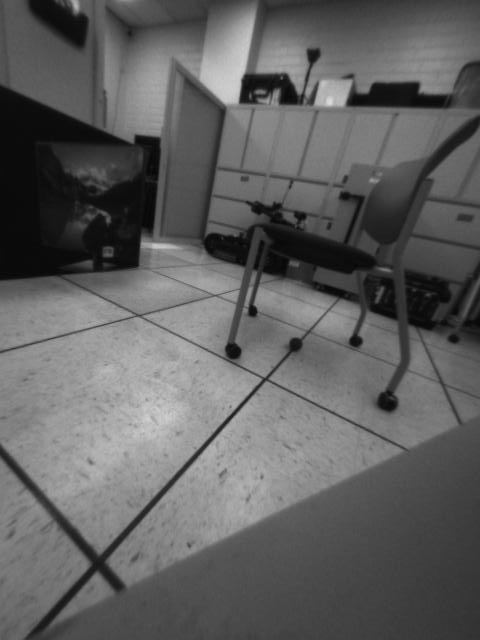dogtoy: (284, 330, 308, 358)
